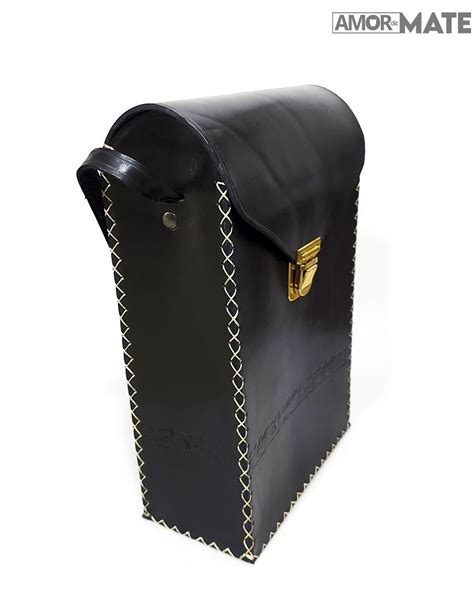cuero: (82, 81, 364, 566)
